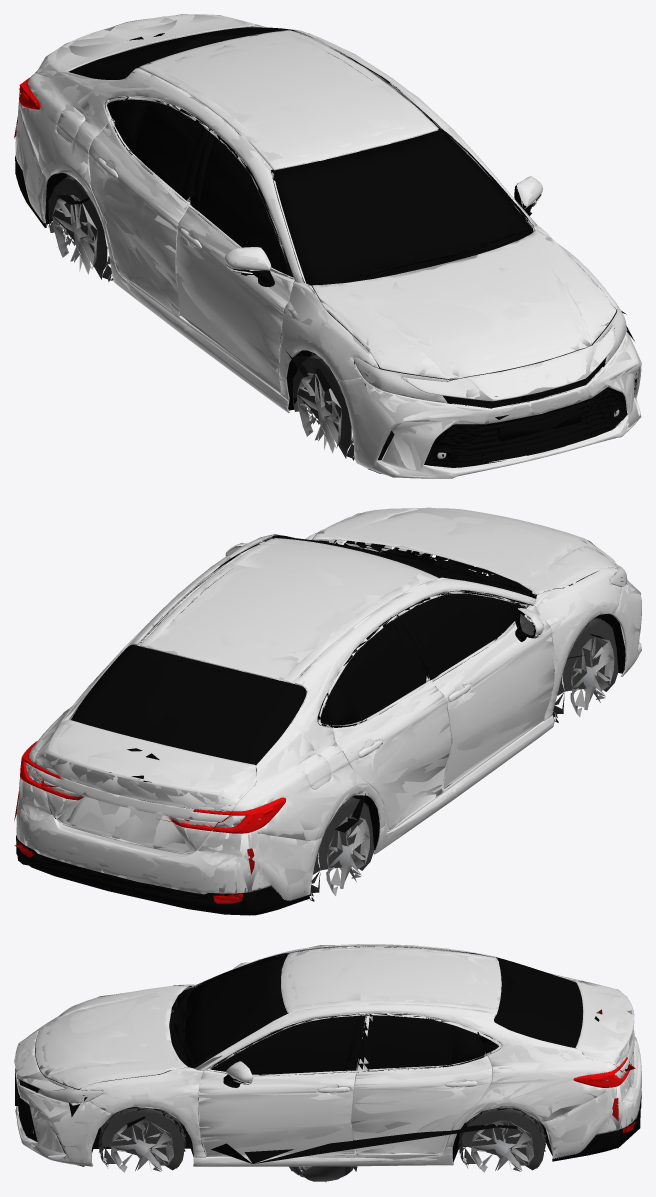
The model's file is sedan1.glb.
The picture shows the model from 3 angles, top to bottom: view 1: azimuth 30°, elevation 25°; view 2: azimuth 150°, elevation 25°; view 3: azimuth 270°, elevation 25°; orthographic projection. The views are drawn at different scales.
Parts seen in each view (by area): view 1: body0, body2, body1; view 2: body0, body2, body1; view 3: body0, body2, body1, wheel1.
Part boxes in pixels (left/top/right/bottom): body0: left=15, top=14, right=641, bottom=478; body2: left=14, top=14, right=641, bottom=477; body1: left=14, top=14, right=640, bottom=478; body0: left=16, top=508, right=641, bottom=915; body2: left=14, top=507, right=641, bottom=901; body1: left=14, top=508, right=641, bottom=915; body0: left=15, top=944, right=641, bottom=1166; body2: left=14, top=945, right=640, bottom=1172; body1: left=15, top=944, right=641, bottom=1166; wheel1: left=289, top=1166, right=353, bottom=1181.
Bounding box in the file's own units: 2.1 × 1.8 × 4.89.
